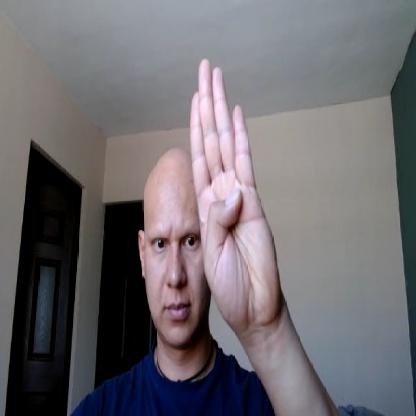B: (191, 59, 280, 323)
